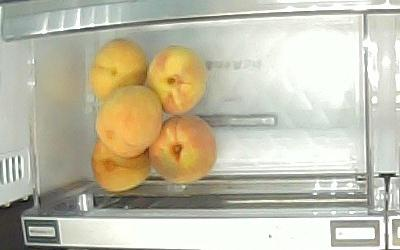peach: (94, 84, 167, 158), (149, 113, 216, 182), (148, 46, 208, 113), (86, 37, 148, 101), (91, 139, 151, 193)
